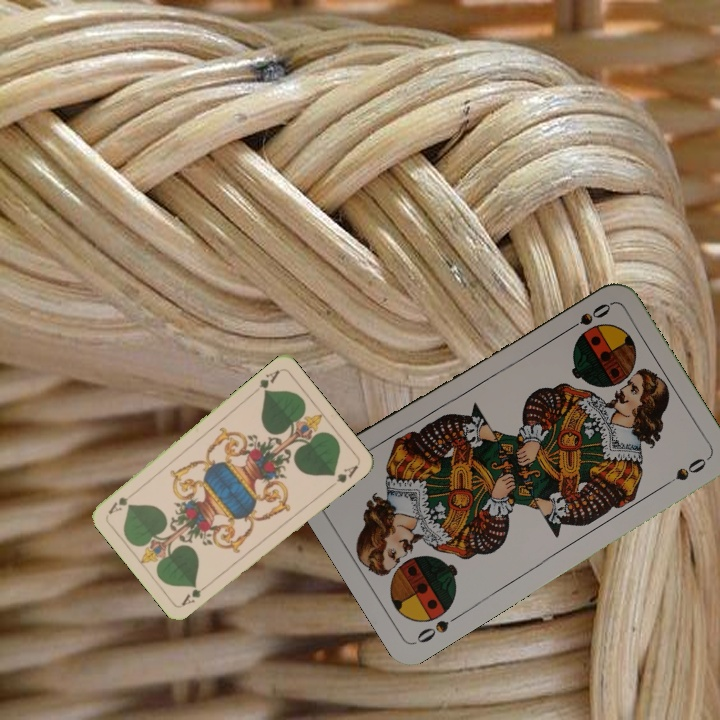GA: (177, 579, 213, 608), (255, 366, 282, 396)
SO: (560, 299, 614, 336), (412, 609, 464, 646)
